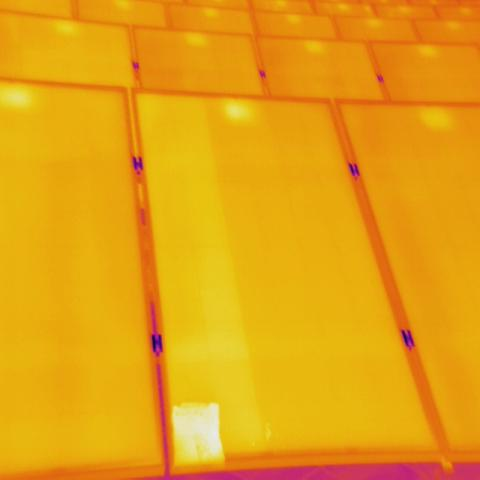fault: (173, 400, 221, 467)
